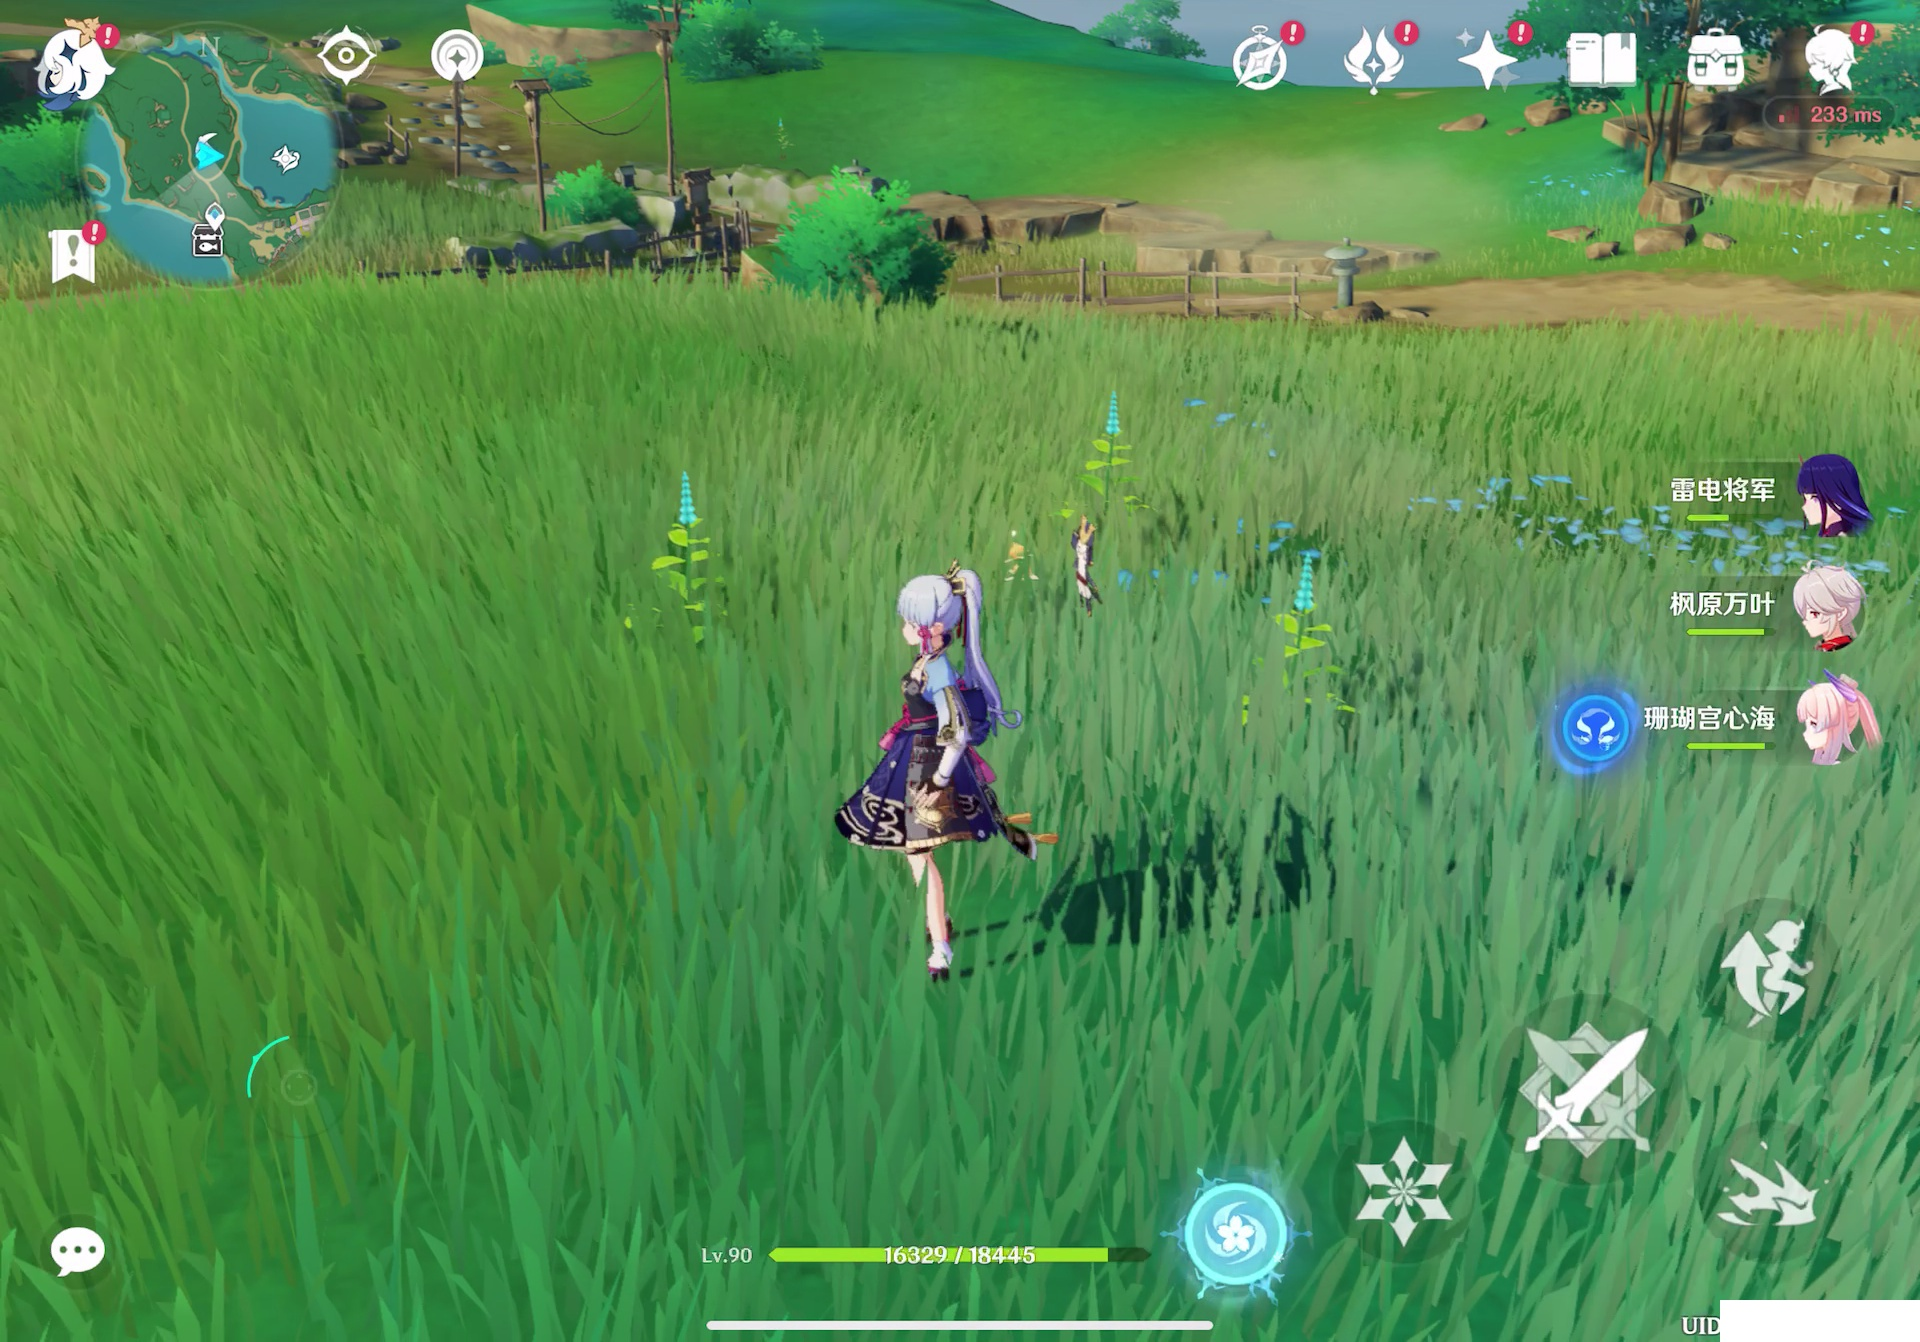没用的甜甜花: (980, 518, 1049, 605)
没用的薄荷: (603, 458, 757, 670), (1249, 535, 1363, 745), (1049, 392, 1169, 546)
神里绫龟: (830, 551, 1064, 986)
